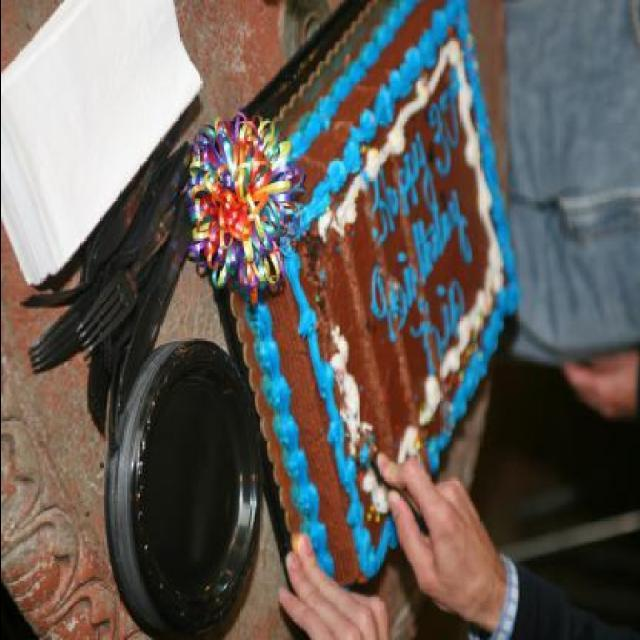Cake: (224, 0, 518, 589)
